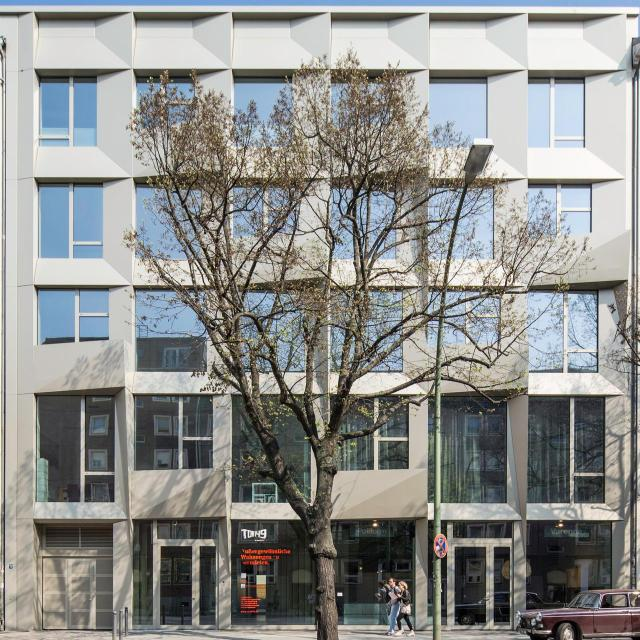door: (453, 537, 519, 627), (158, 537, 221, 628), (39, 552, 112, 626)
window: (237, 519, 416, 622), (525, 396, 604, 502), (232, 397, 312, 501), (35, 396, 114, 501), (525, 519, 612, 610), (430, 398, 506, 501), (132, 394, 213, 467), (136, 290, 208, 370), (331, 291, 404, 369), (237, 291, 307, 368), (333, 398, 409, 466), (530, 294, 595, 373), (330, 187, 397, 261), (430, 187, 497, 259), (38, 184, 104, 257), (135, 188, 201, 257), (429, 77, 487, 147), (527, 77, 584, 147), (37, 289, 109, 344), (41, 78, 97, 148), (234, 181, 298, 238), (428, 294, 500, 344), (529, 183, 591, 237), (136, 76, 197, 124), (231, 78, 294, 122), (156, 520, 220, 536), (454, 521, 514, 537)
